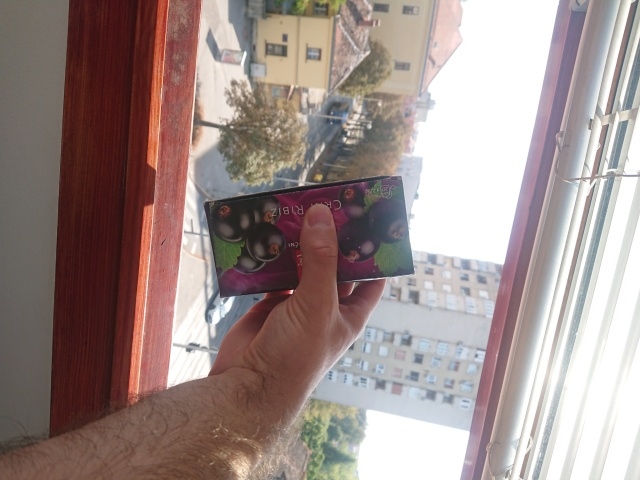Franck Black Currant Tea 60g: (201, 173, 417, 300)
